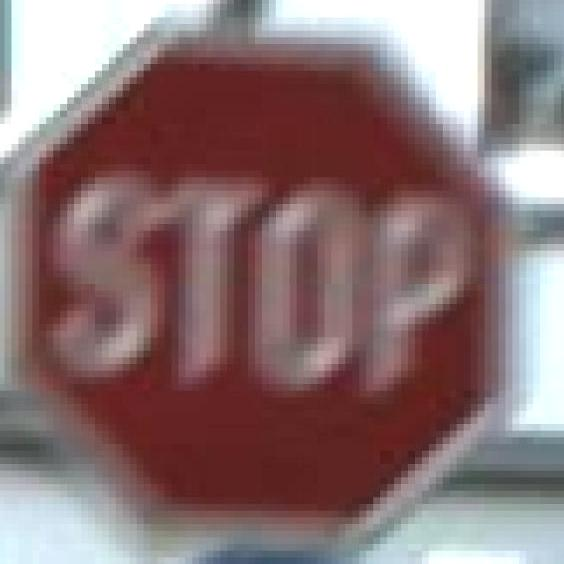stop_sign: (0, 20, 519, 554)
